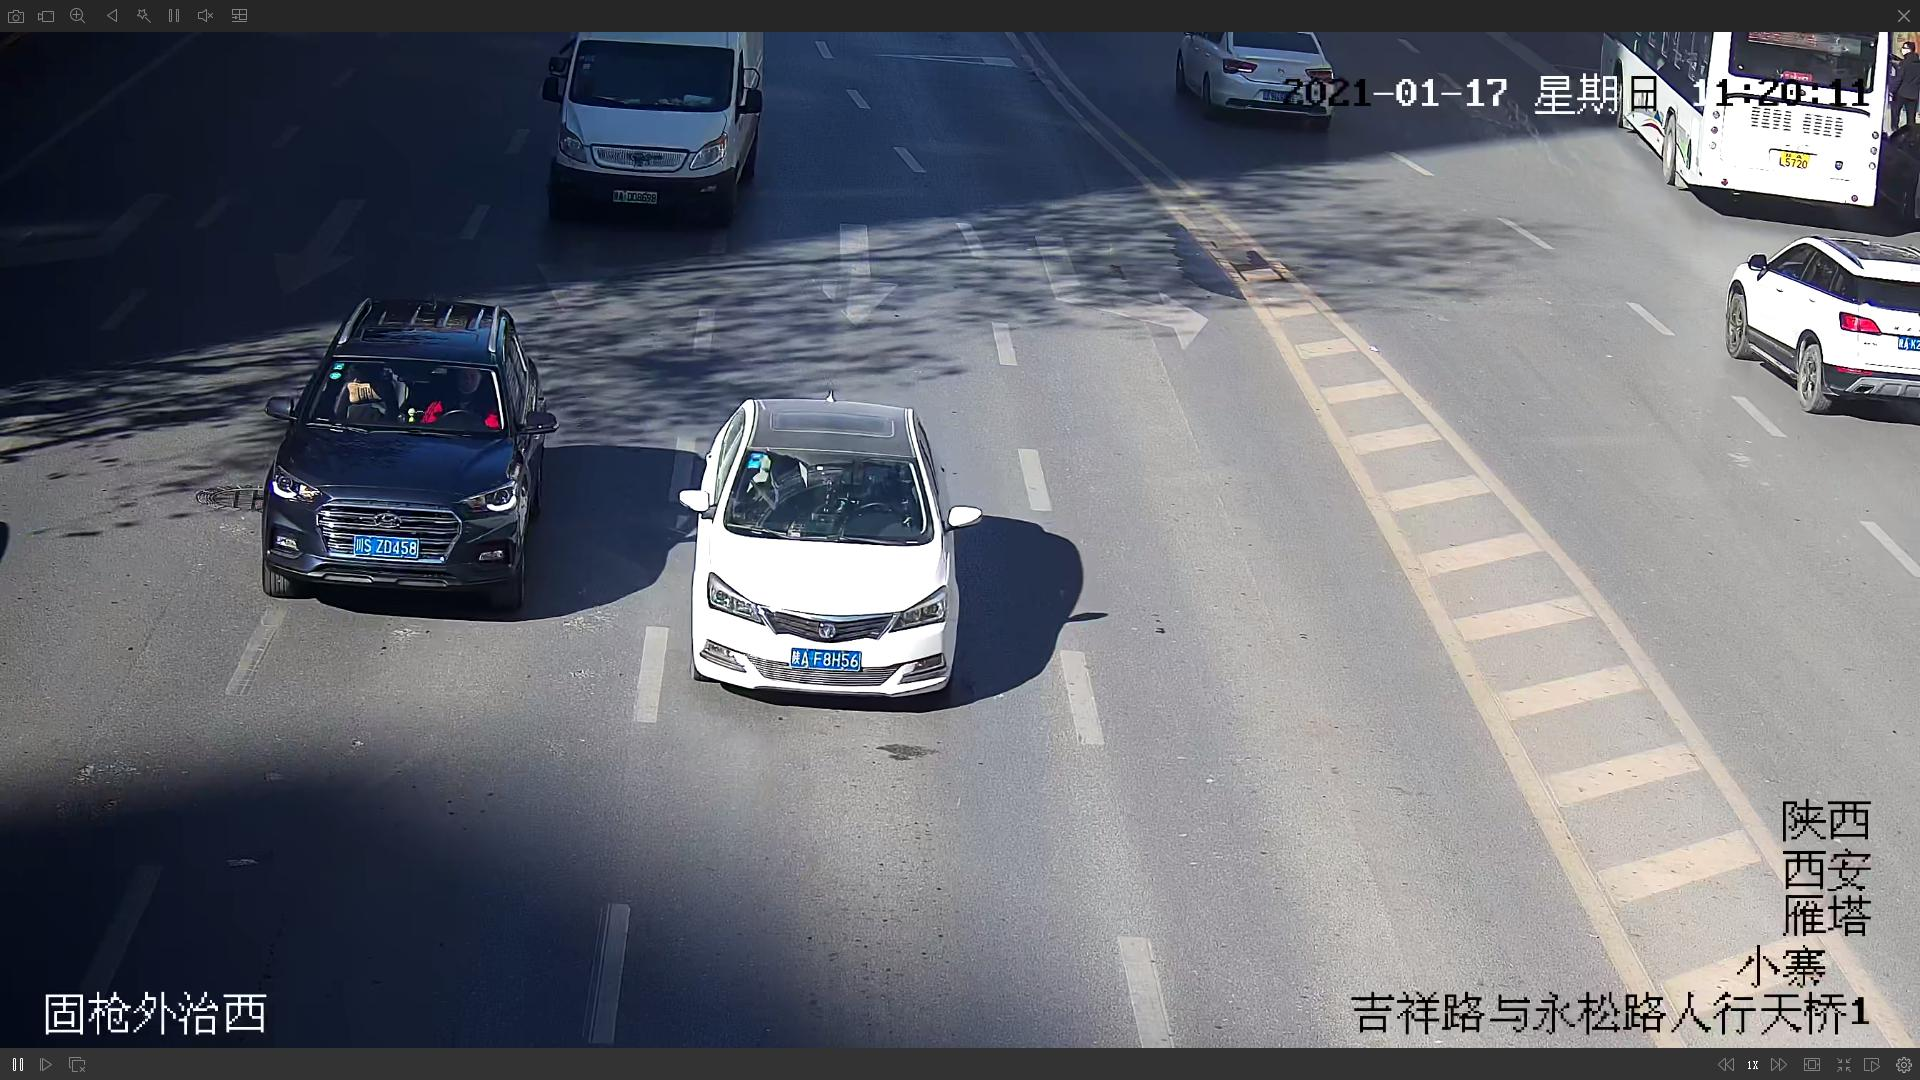black: (264, 295, 549, 612)
white: (687, 394, 977, 712), (542, 25, 766, 233)
